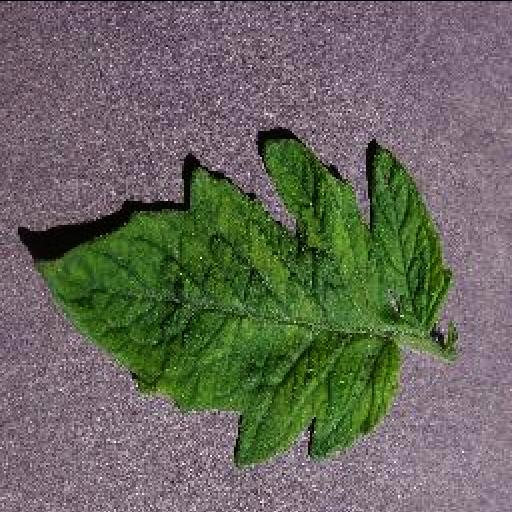Mosaic Virus: (30, 134, 452, 470)
